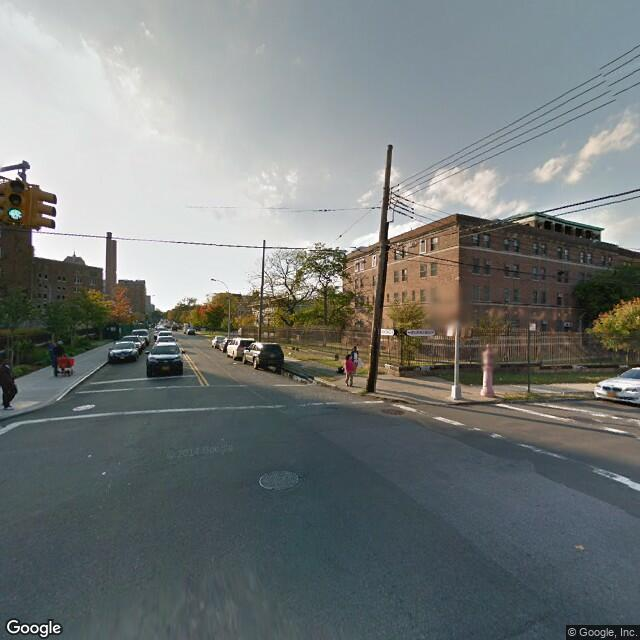litter: (541, 532, 599, 558)
